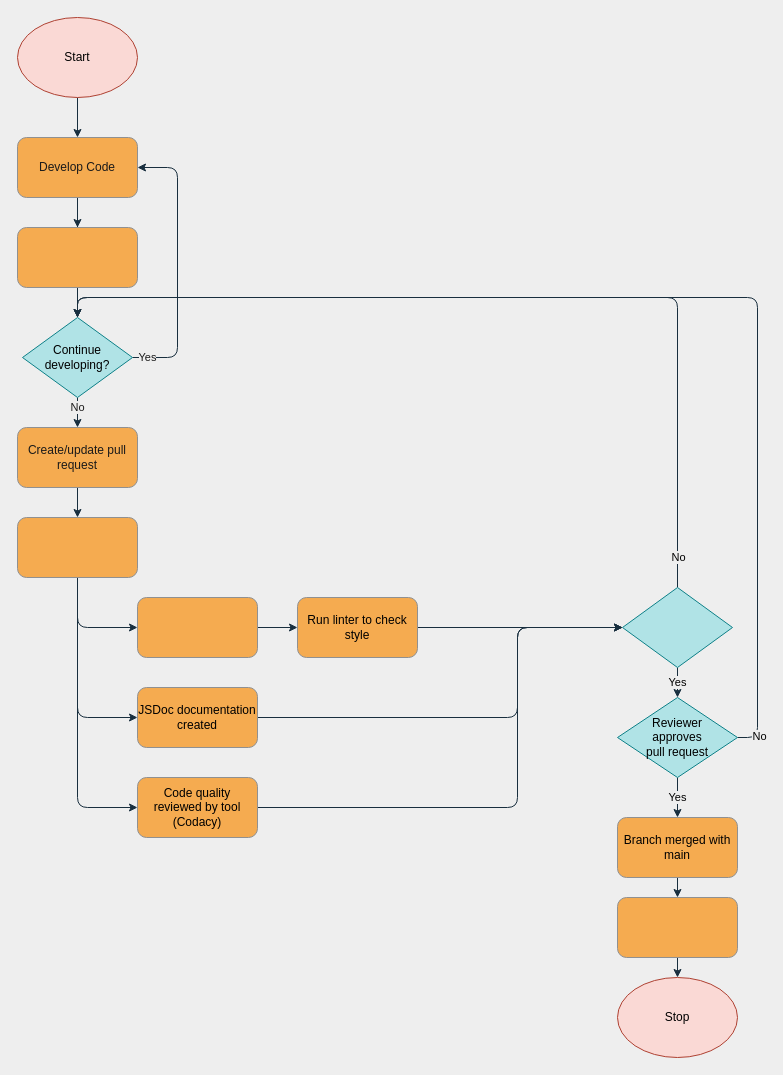
The diagram is 783 pixels wide and 1075 high, and some of its shapes have lost their labels. The shapes that lost their labels are listed below. From the top down, each one's centre as x and y in pixels, then its label:
[77,257]: Commit code to feature branch
[77,547]: Workflow Start
[197,627]: Build and run Jest unit tests
[677,627]: Passed all jobs?
[677,927]: Pull request closed
